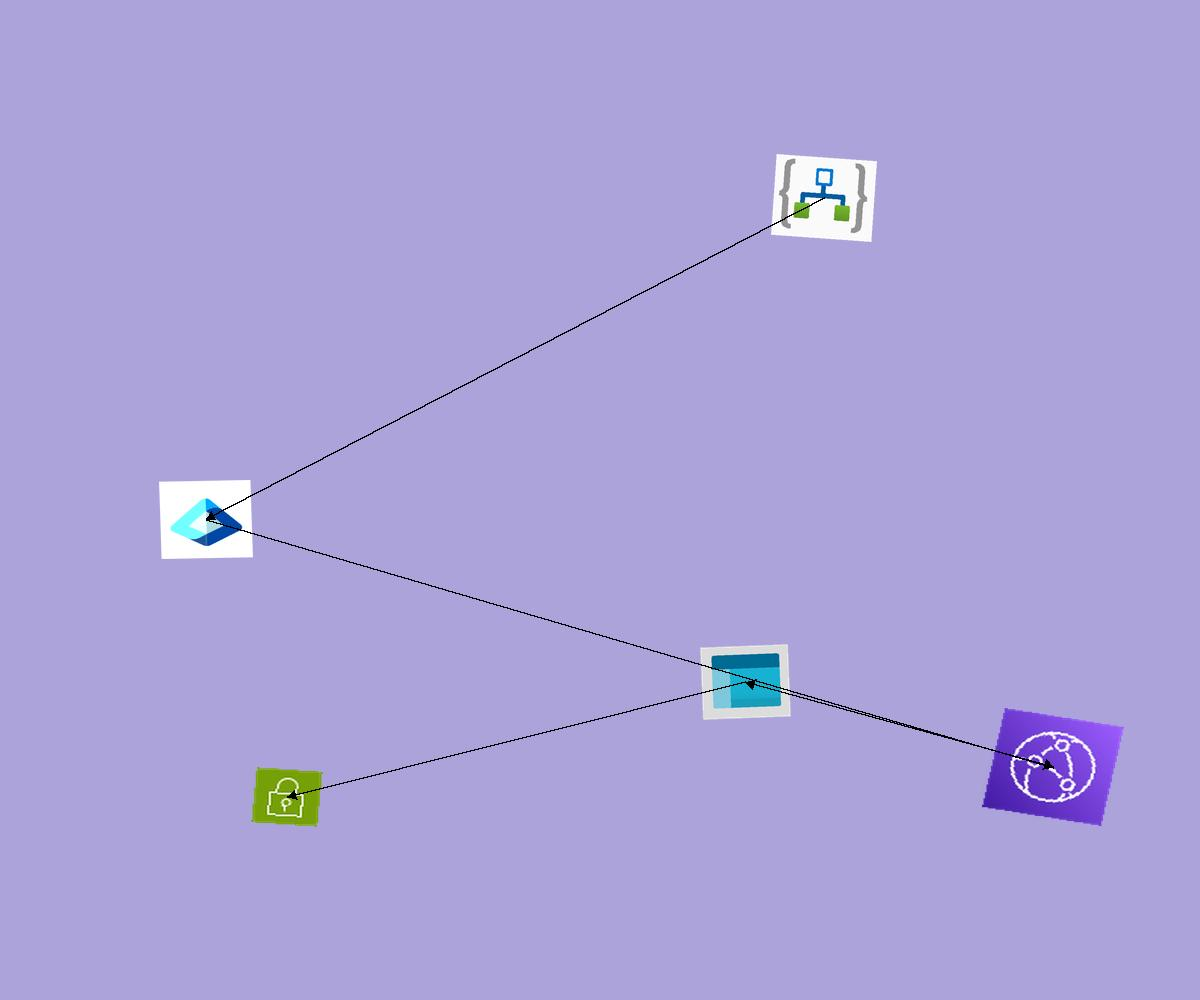AWS-CloudFront: (982, 708, 1124, 826)
AWS-Public-subnet: (251, 767, 323, 827)
Azure_integration-204-Logic-Apps: (771, 154, 877, 242)
Azure_management-portal: (700, 644, 791, 720)
Azure_microsoft_entra: (159, 480, 253, 559)
